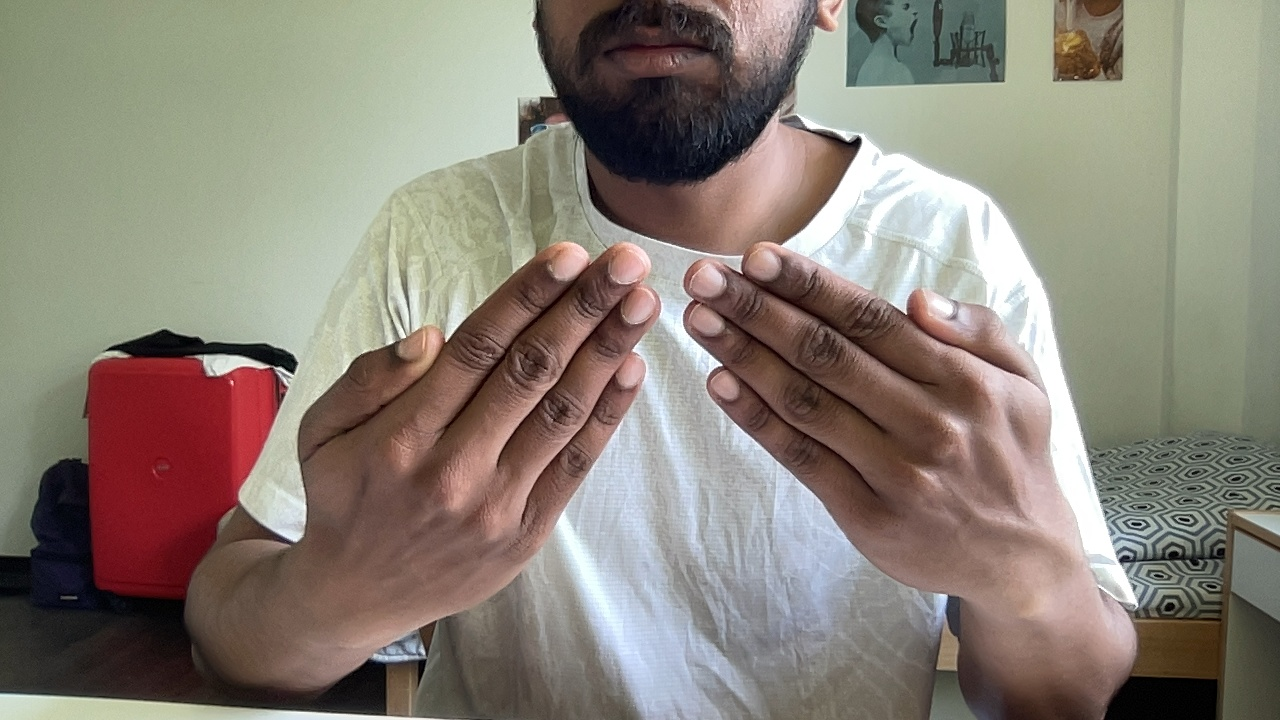ThankYou: (291, 240, 1054, 633)
